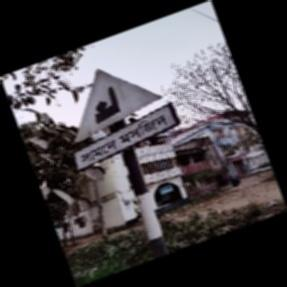Mosque in front: (70, 68, 184, 173)
